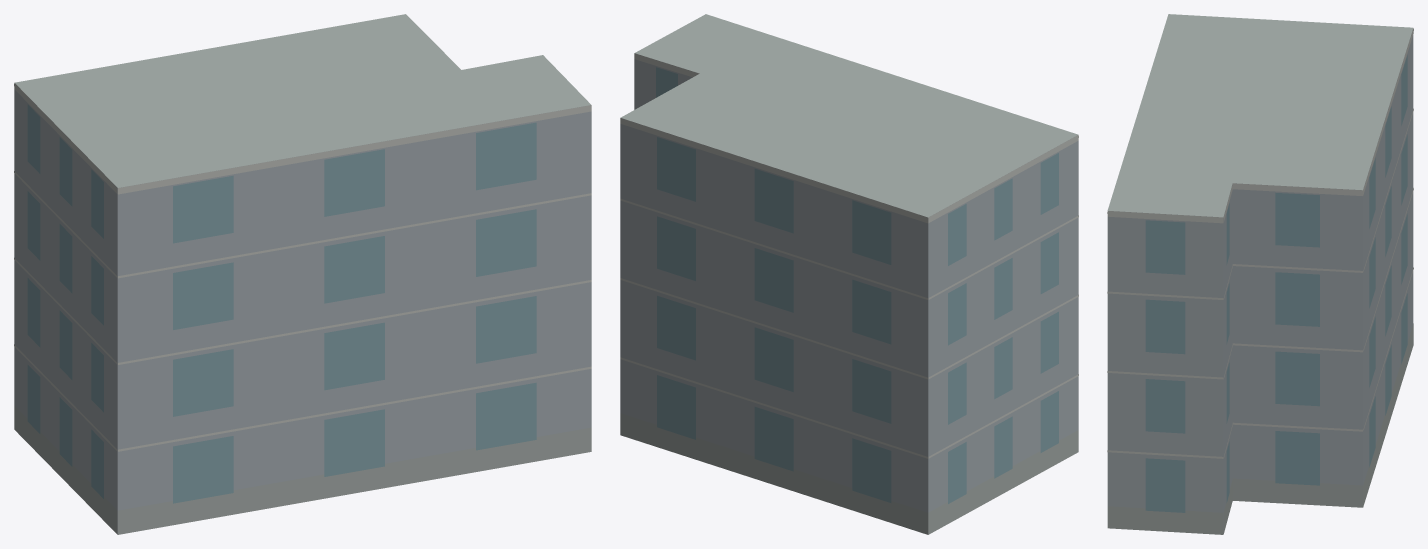
File: survey-upis-32811072.glb
3 views of the same model, side by side, from view 1: azimuth 30°, elevation 25°; view 2: azimuth 150°, elevation 25°; view 3: azimuth 270°, elevation 25° (orthographic). The views are drawn at different scales.
Visible parts, largest first — view 1: survey-upis-32811072.tmp; view 2: survey-upis-32811072.tmp; view 3: survey-upis-32811072.tmp.
Part boxes in pixels (x1,y1,x2,y2): survey-upis-32811072.tmp: (14, 14, 591, 534); survey-upis-32811072.tmp: (620, 14, 1078, 534); survey-upis-32811072.tmp: (1107, 14, 1413, 534).
Size of the model in its own units: 17.84 by 12.97 by 11.36.
